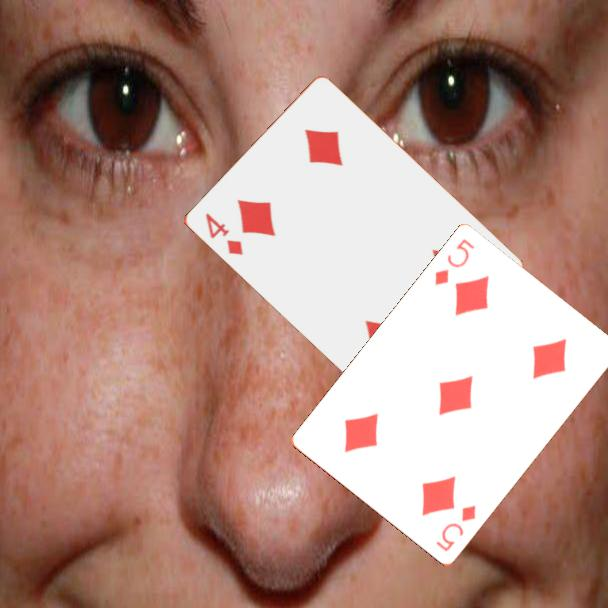d04: (201, 209, 246, 258)
d05: (431, 236, 478, 289), (433, 502, 479, 555)
